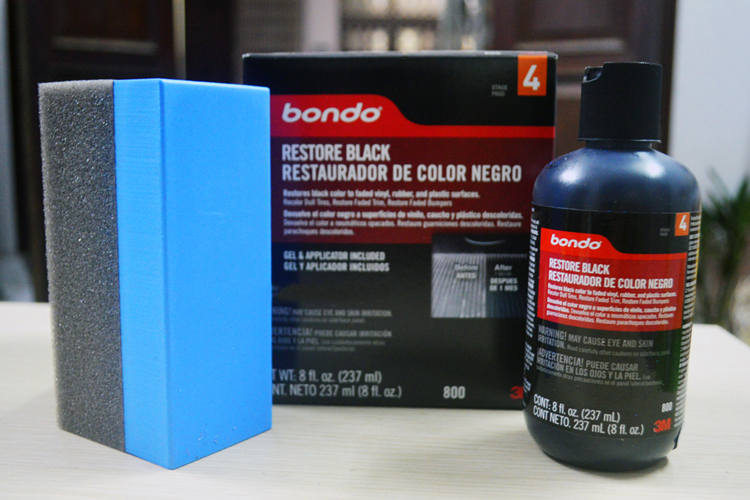3M: (647, 414, 677, 436)
